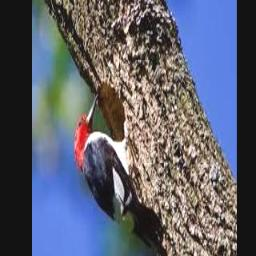Woodpecker: (74, 94, 163, 256)
